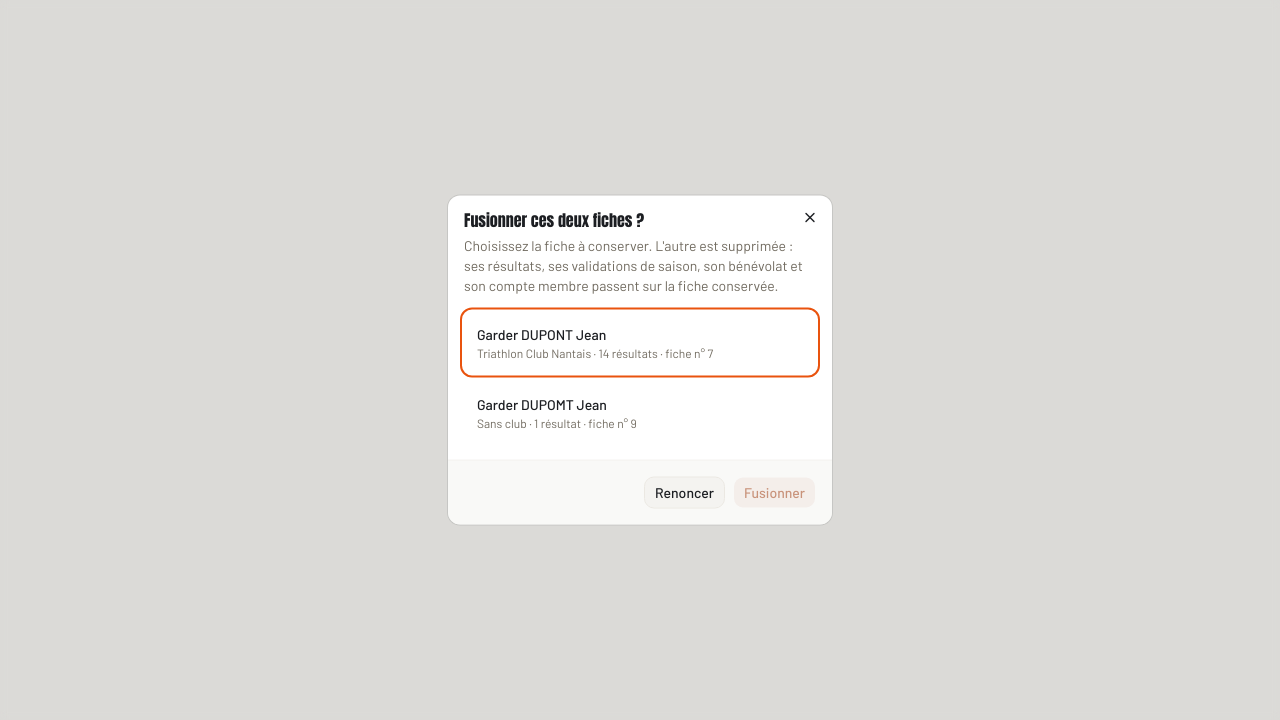
Test: MergeAthletesDialog › un aperçu illisible n'active pas la fusion
The image size is (1280, 720).
Click the radio button labelled "Garder DUPONT Jean" at coordinates (640, 342), box [464,312,816,374]
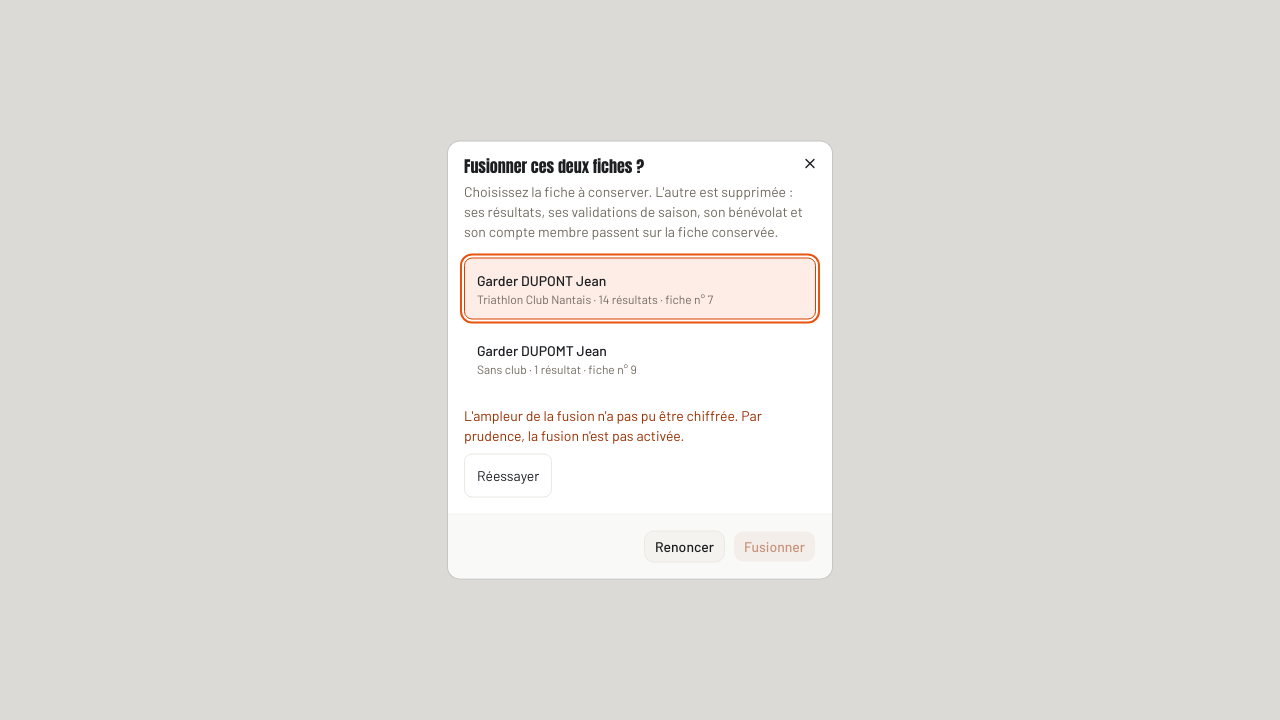
Expected: the button "Fusionner" is disabled, [733,530,816,562]
Now the text "n'a pas pu être chiffrée" is shown, box [464,406,762,444]
Click the button "Réessayer" at coordinates (508, 476), box [464,454,552,498]
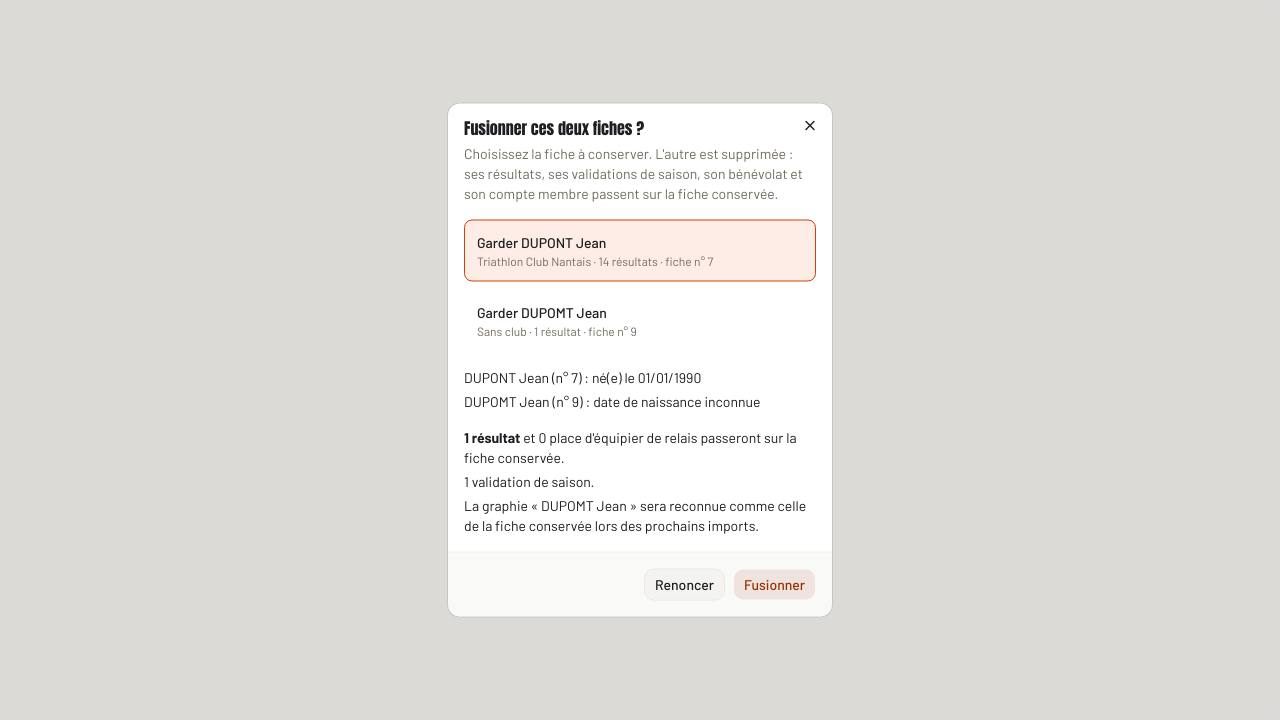
Now the list named "Ce que la fusion déplace" shows "1 résultat", box [464,428,520,446]
